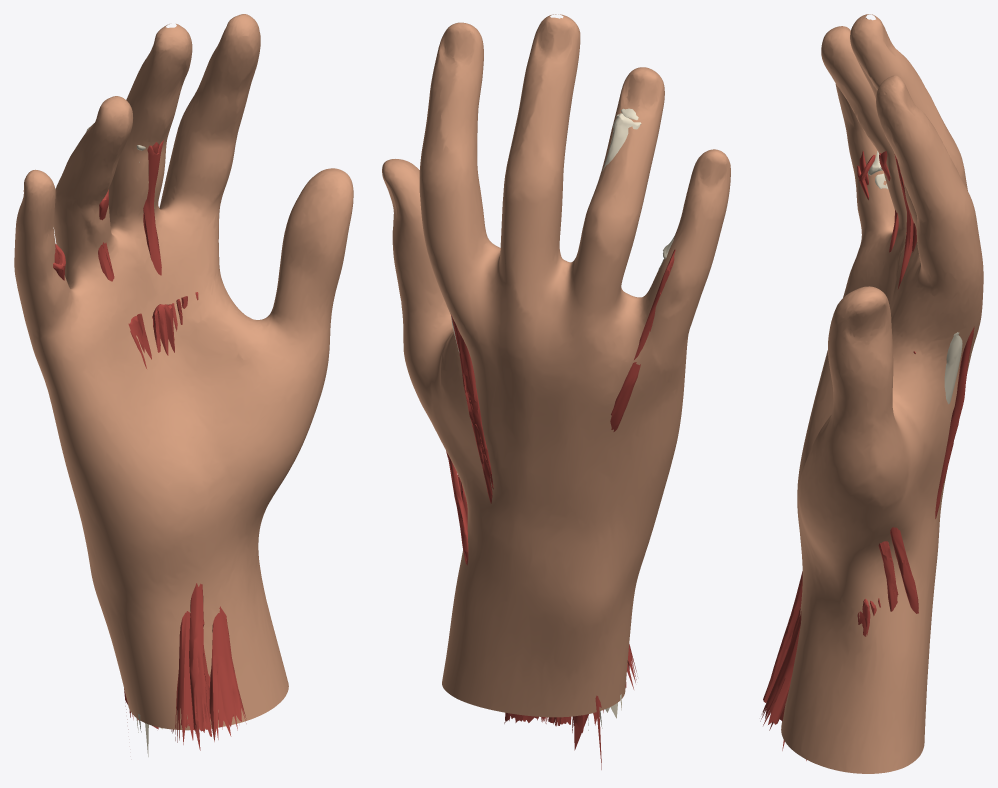
Rendered from hand-r.glb.
3 renders of one model, left to right at view 1: azimuth 30°, elevation 25°; view 2: azimuth 150°, elevation 25°; view 3: azimuth 270°, elevation 25°, orthographic. The views are drawn at different scales.
Parts seen in each view (by area): view 1: skin, muscle; view 2: skin, muscle, bone; view 3: skin, muscle, bone.
Part boxes in pixels (bbox=[...]): skin: bbox=[14, 14, 353, 730]; muscle: bbox=[53, 140, 258, 750]; skin: bbox=[382, 14, 730, 717]; muscle: bbox=[446, 249, 675, 769]; bone: bbox=[451, 108, 674, 730]; skin: bbox=[781, 14, 983, 773]; muscle: bbox=[760, 151, 974, 760]; bone: bbox=[868, 151, 962, 404].
Bounding box in the file's own units: 0.1194 × 0.2524 × 0.0667.
